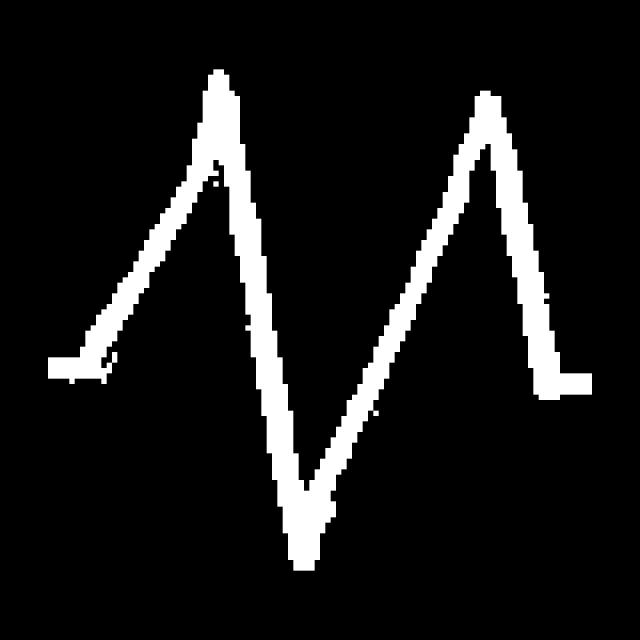resistor: (73, 56, 575, 582)
